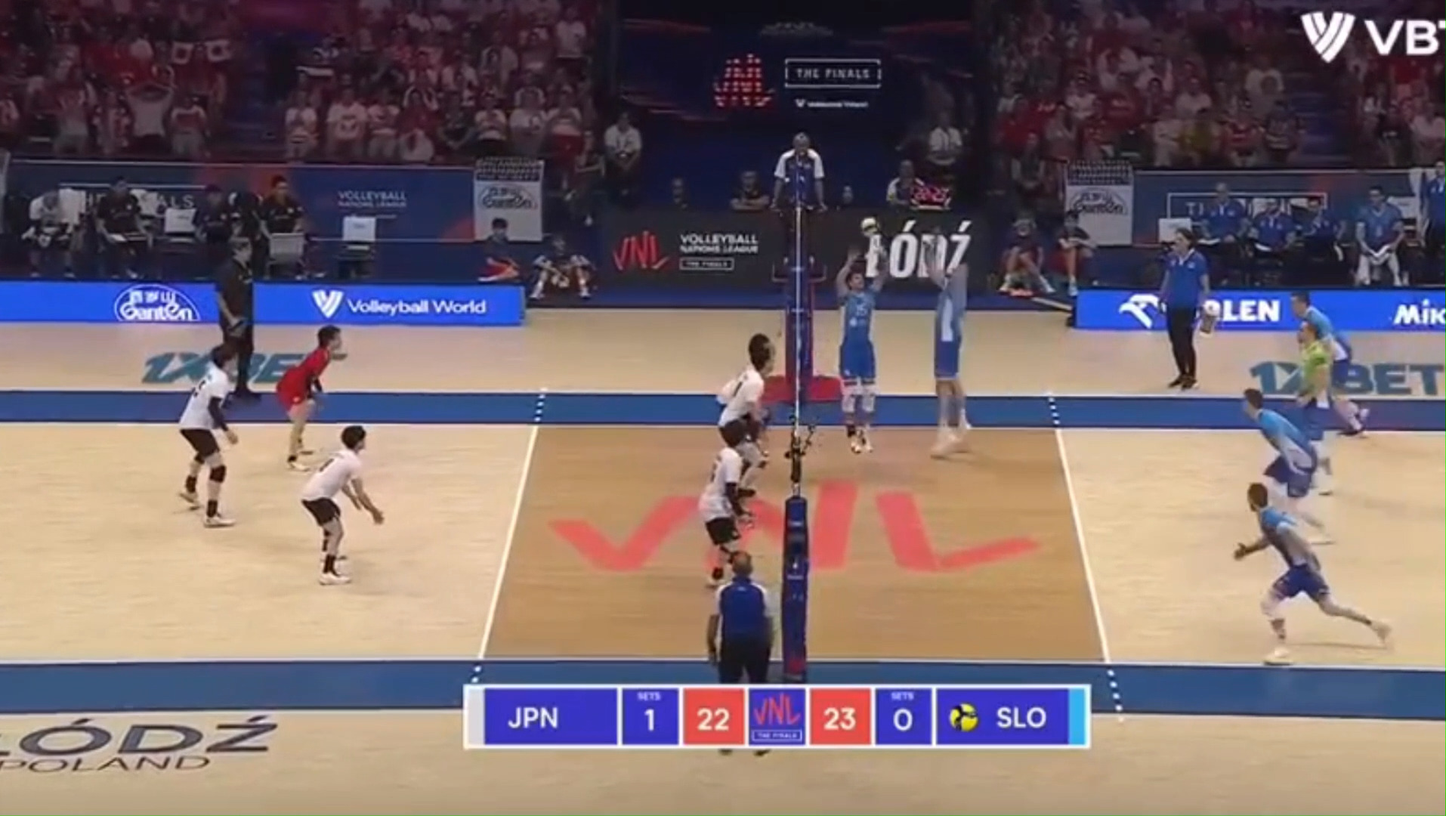ball: (860, 216, 879, 236)
player: (1233, 482, 1388, 665), (1242, 388, 1326, 533), (1293, 292, 1368, 434), (836, 253, 883, 453), (929, 261, 970, 458), (1297, 322, 1333, 441)
player 1: (300, 425, 384, 583), (178, 345, 236, 527), (276, 324, 345, 468), (698, 419, 748, 584), (720, 333, 772, 470), (716, 372, 741, 405), (759, 405, 774, 438)
referee: (706, 551, 773, 684), (773, 131, 826, 292), (1160, 229, 1210, 390), (215, 235, 258, 399)
